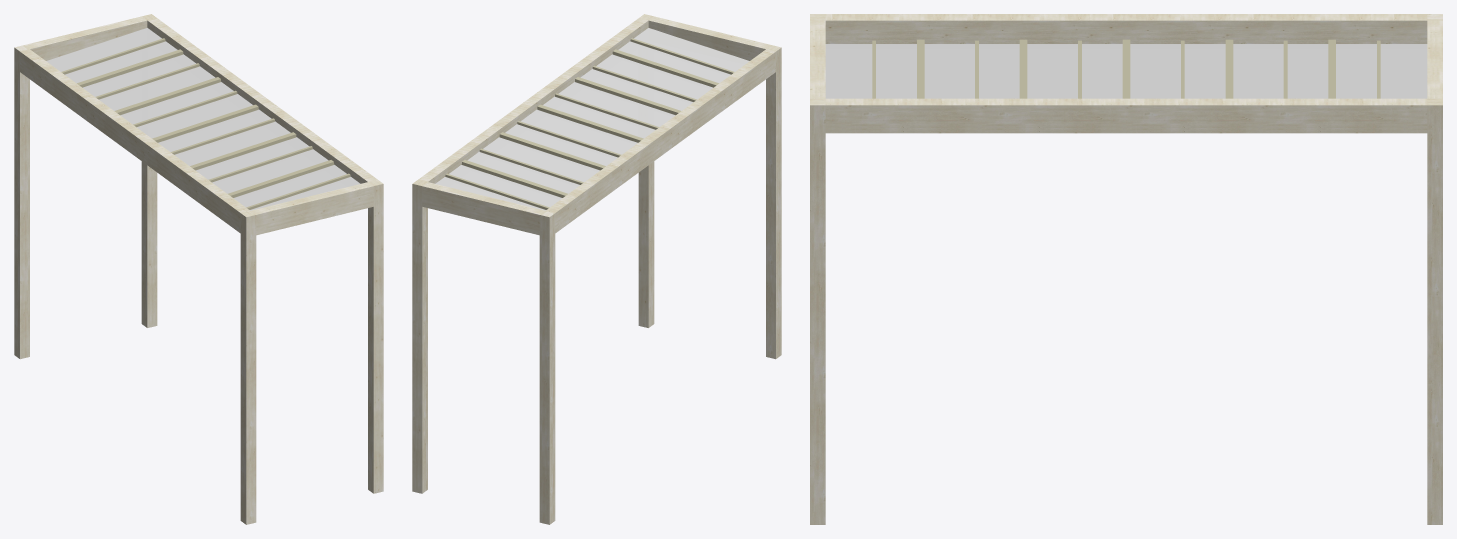
The model's file is hyr-single_h30-w13-l40_whitepine.fbx.
The picture shows the model from 3 angles, left to right: view 1: azimuth 30°, elevation 25°; view 2: azimuth 150°, elevation 25°; view 3: azimuth 270°, elevation 25°; orthographic projection. The views are drawn at different scales.
Parts seen in each view (by area): view 1: hyr-single_h30-w13-l40_whitepine; view 2: hyr-single_h30-w13-l40_whitepine; view 3: hyr-single_h30-w13-l40_whitepine.
Boxes of the visible parts, x1,y1,x2,y2 form: hyr-single_h30-w13-l40_whitepine: (14,14,383,524); hyr-single_h30-w13-l40_whitepine: (412,14,781,524); hyr-single_h30-w13-l40_whitepine: (810,14,1442,524).
Size of the model in its own units: 140 by 300 by 410.
Materials: 3 (2 with a texture image).
